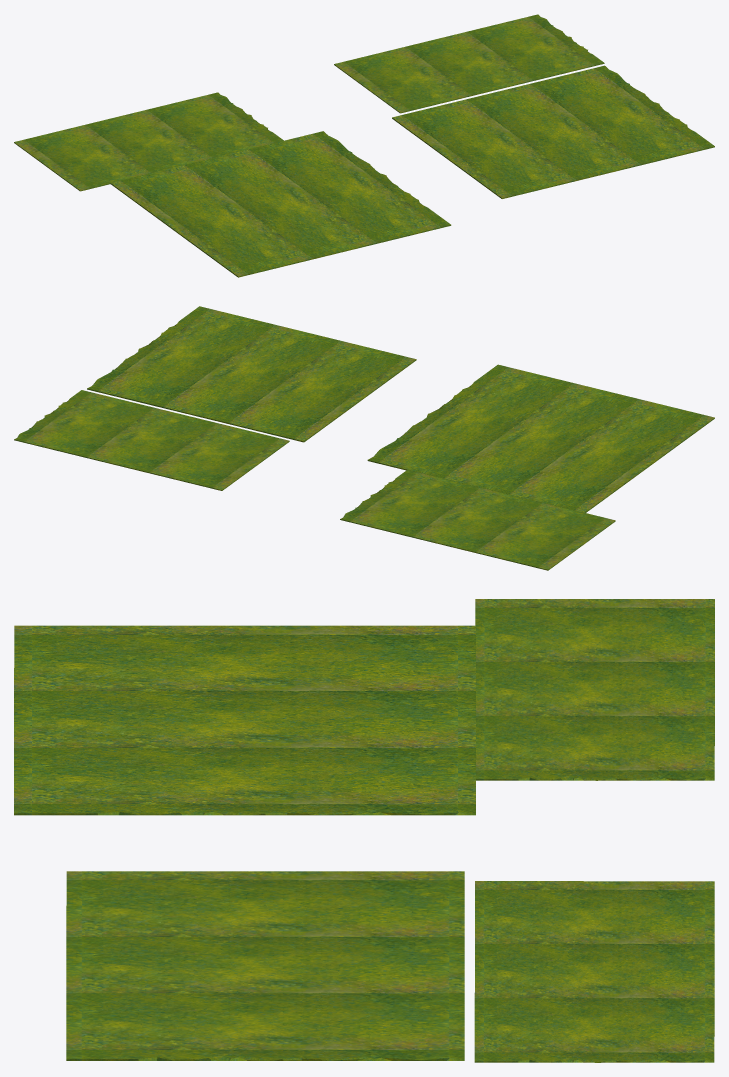
File: grass ground.glb
3 views of the same model, one above another, from view 1: azimuth 30°, elevation 25°; view 2: azimuth 150°, elevation 25°; view 3: azimuth 270°, elevation 25° (orthographic). The views are drawn at different scales.
Parts seen in each view (by area): view 1: Plane.001, Plane.002, Plane.004, Plane.005; view 2: Plane.001, Plane.002, Plane.004, Plane.005; view 3: Plane.001, Plane.002, Plane.004, Plane.005.
Part boxes in pixels (x1,y1,x2,y2): Plane.001: (110,131,451,277); Plane.002: (392,65,714,198); Plane.004: (334,14,604,113); Plane.005: (14,92,283,191); Plane.001: (367,364,714,512); Plane.002: (87,306,416,442); Plane.004: (14,390,289,490); Plane.005: (340,469,615,570); Plane.001: (14,625,475,815); Plane.002: (66,871,464,1060); Plane.004: (474,881,714,1062); Plane.005: (475,599,714,780).
Size of the model in its own units: 115 by 0.2457 by 73.3.
Materials: 1 (1 with a texture image).
